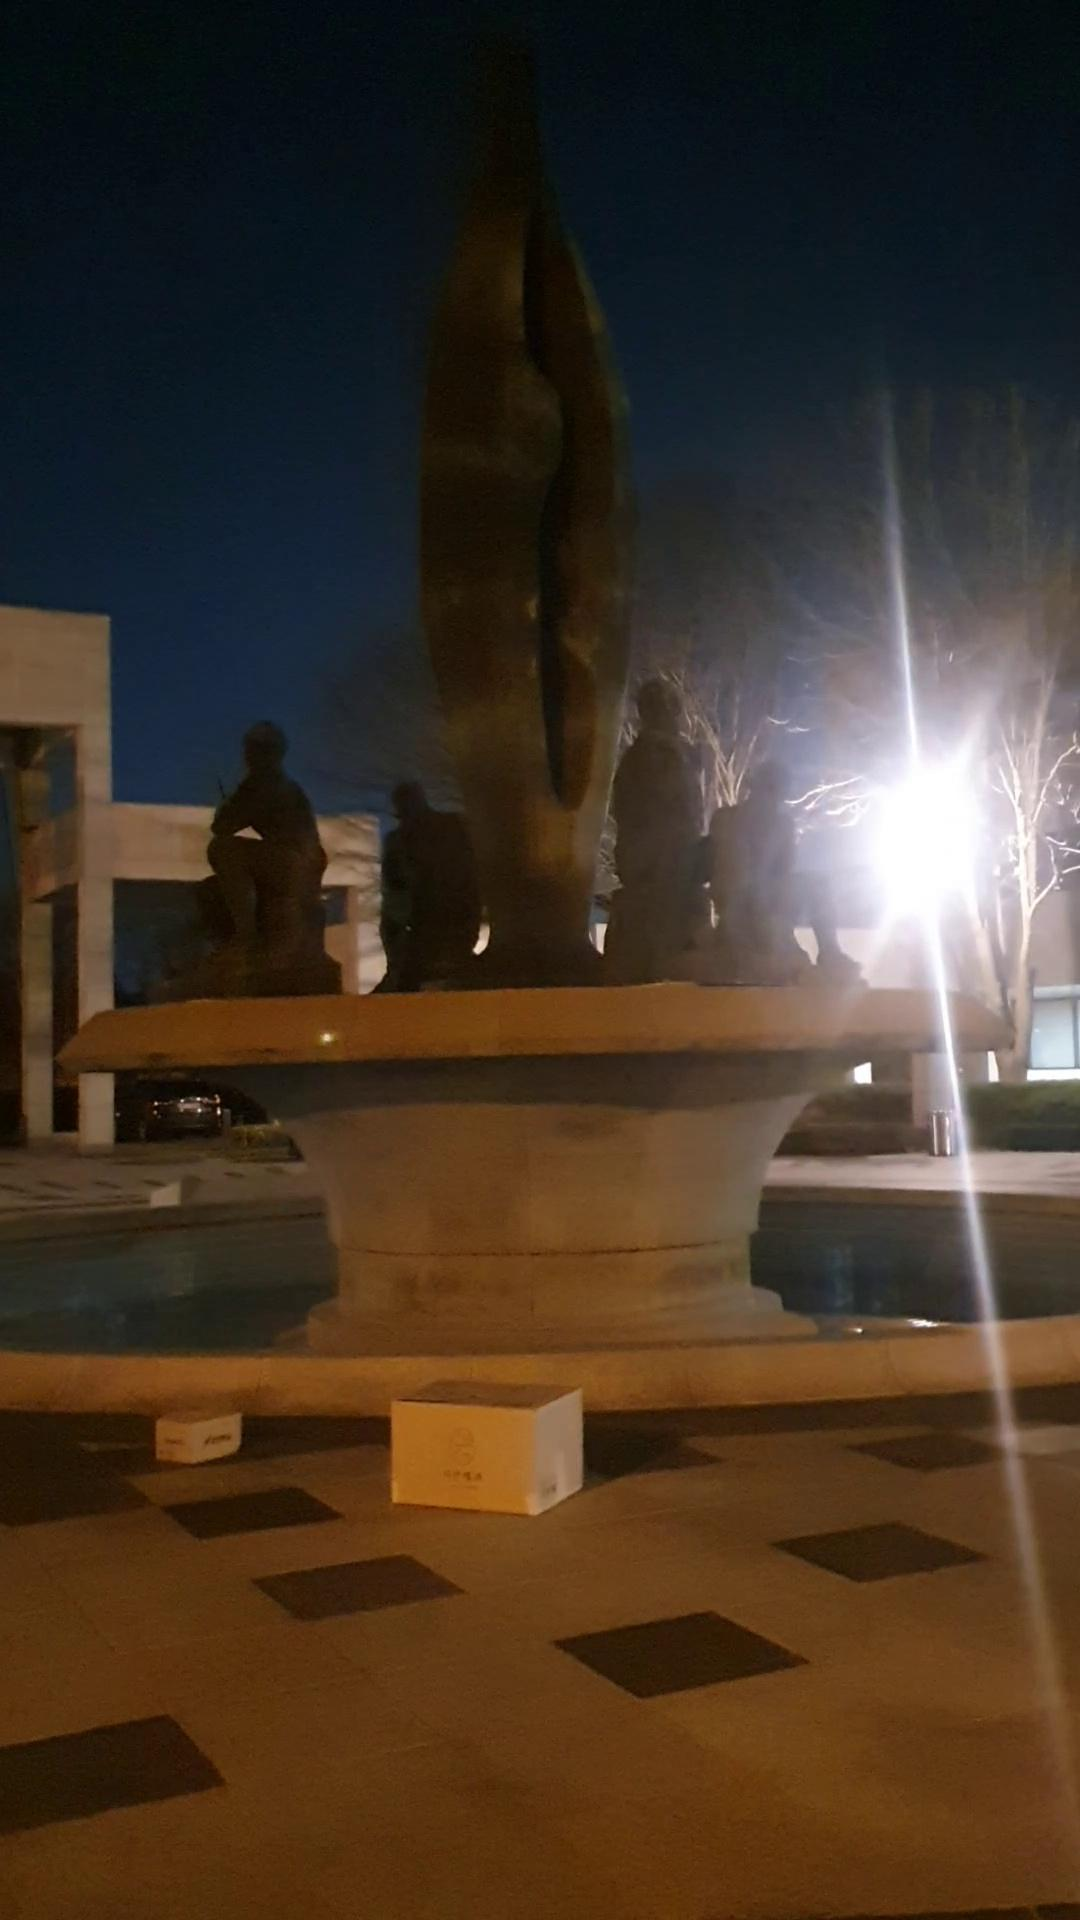Box: (378, 1367, 582, 1515), (133, 1378, 257, 1487)
